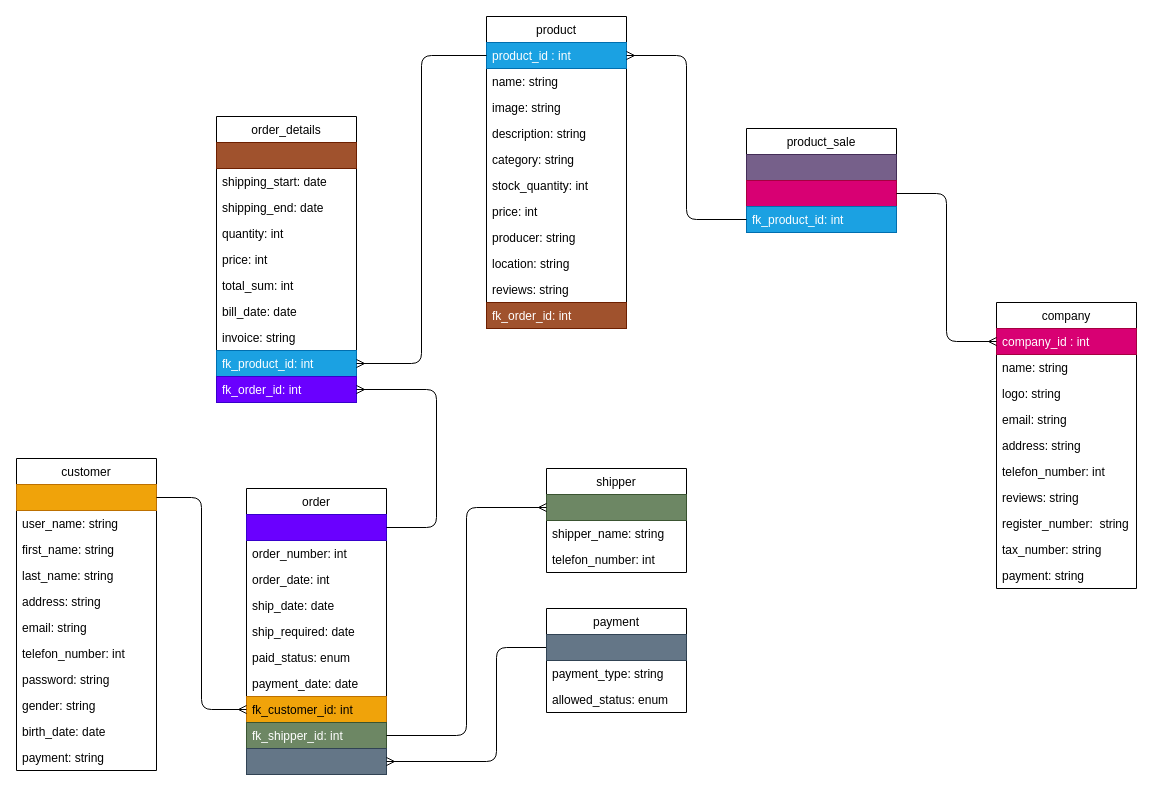
The diagram is 1153 pixels wide and 791 high, and some of its shapes have lost their labels. Each missing label, with the centre of its shape:
"customer_id : int" goes at (86,497).
"fk_company_id: int" goes at (821,193).
"fk_payment_id: int" goes at (316,761).
"order_details: int" goes at (286,155).
"order_id: int" goes at (316,527).
"payment_id: int" goes at (616,647).
"product_sale_id : int" goes at (821,167).
"shipper_id: int" goes at (616,507).
